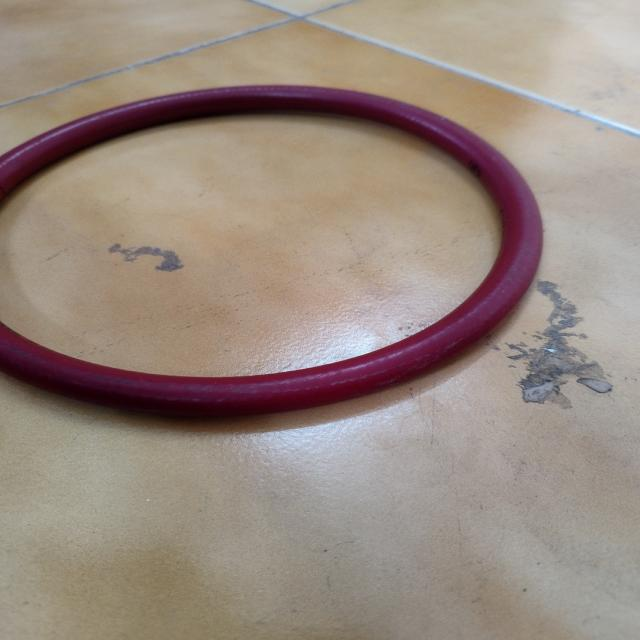daire: (2, 84, 545, 421)
